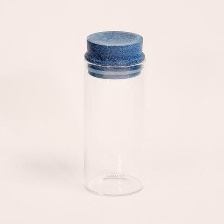bottle: (78, 27, 147, 203)
